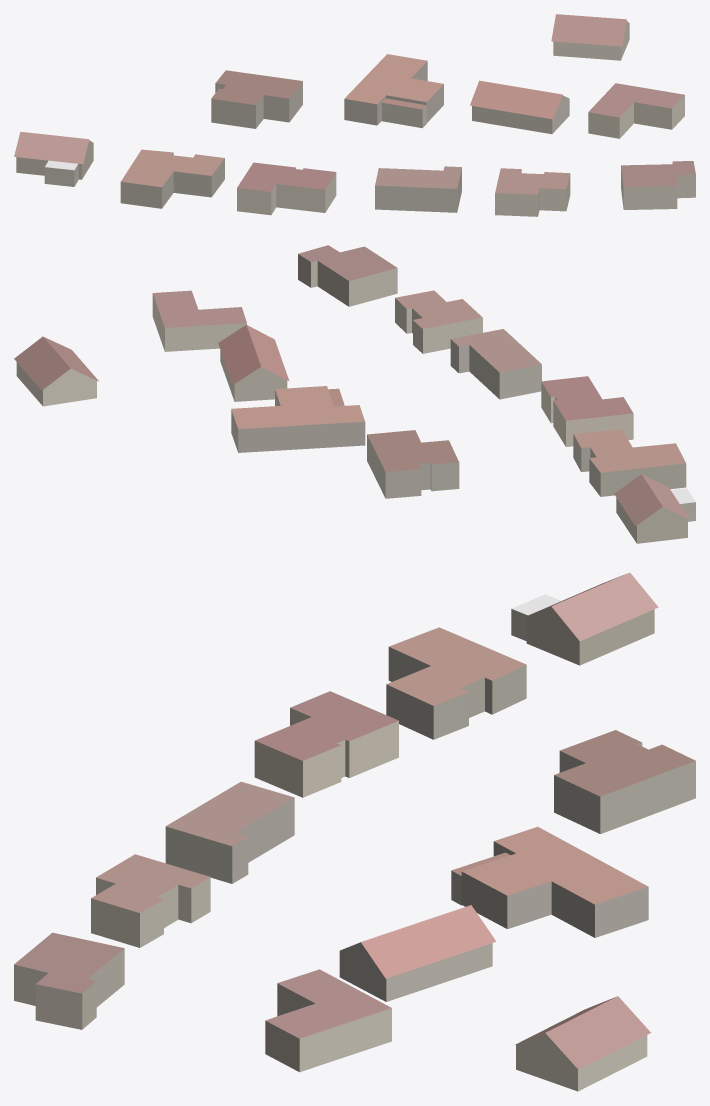
3 renders of one model, top to bottom at view 1: azimuth 30°, elevation 25°; view 2: azimuth 150°, elevation 25°; view 3: azimuth 270°, elevation 25°, orthographic. The views are drawn at different scales.
Parts seen in each view (by area): view 1: tuile; view 2: tuile; view 3: tuile.
Boxes of the visible parts, left/top/right/bottom form: tuile: left=14, top=14, right=695, bottom=216; tuile: left=14, top=245, right=695, bottom=543; tuile: left=14, top=572, right=695, bottom=1091.
Size of the model in its own units: 138 by 10.12 by 85.01.
